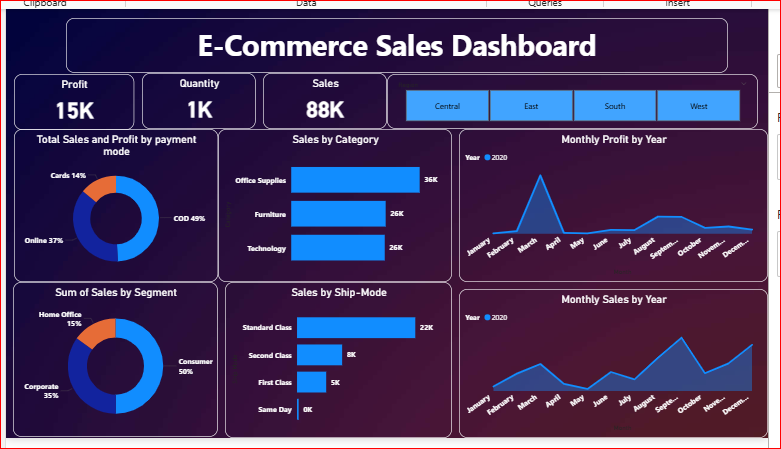

What the dashboard file says about the page in this screenshot:
{"tool":"powerbi","page":{"name":"Page 1","canvas":[1280,720],"ordinal":0},"visuals":[{"type":"clusteredBarChart","title":" Sales by Category","fields":{"Category":["Sheet1.Category"],"Y":["Sum(Sheet1.Sales)"]},"box":[356.1,201.6,393.1,257],"z":0},{"type":"clusteredBarChart","title":" Sales by Ship-Mode","fields":{"Y":["Sum(Sheet1.Sales)"],"Category":["Sheet1.Ship Mode"]},"box":[367.9,458.6,381.3,262],"z":1},{"type":"stackedAreaChart","title":"Monthly Sales by Year","fields":{"Y":["Sum(Sheet1.Sales)"],"Category":["Sheet1.Order Date.Variation.Date Hierarchy.Month"],"Series":["Sheet1.Order Date.Variation.Date Hierarchy.Year"]},"box":[760.9,470.3,519.1,250.3],"z":3},{"type":"stackedAreaChart","title":"Monthly Profit  by Year","fields":{"Category":["Sheet1.Order Date.Variation.Date Hierarchy.Month"],"Series":["Sheet1.Order Date.Variation.Date Hierarchy.Year"],"Y":["Sum(Sheet1.Profit)"]},"box":[760.9,201.6,519.1,257],"z":4},{"type":"donutChart","fields":{"Category":["Sheet1.Segment"],"Y":["Sum(Sheet1.Sales)"]},"box":[11.8,458.6,344.4,260.4],"z":5},{"type":"donutChart","title":"Total Sales and Profit by payment mode","fields":{"Y":["Sum(Sheet1.Sales)"],"Category":["Sheet1.Payment Mode"]},"box":[13.4,201.6,342.7,257],"z":6},{"type":"slicer","fields":{"Values":["Sheet1.Region"]},"box":[640,109.2,623.2,92.4],"z":7},{"type":"card","title":"Sales","fields":{"Values":["Sum(Sheet1.Sales)"]},"box":[431.7,107.5,208.3,94.1],"z":8},{"type":"card","title":"Quantity ","fields":{"Values":["Sum(Sheet1.Quantity)"]},"box":[228.5,107.5,191.5,94.1],"z":9},{"type":"card","title":"Profit","fields":{"Values":["Sum(Sheet1.Profit)"]},"box":[13.4,109.2,201.6,94.1],"z":10},{"type":"textbox","box":[100.8,15.1,1112,92.4],"z":11}]}

Visuals, with their boxes in screenshot pixels (x1, y1, x2, y2):
" Sales by Category" clusteredBarChart: [210,125,447,280]
" Sales by Ship-Mode" clusteredBarChart: [217,280,447,438]
"Monthly Sales by Year" stackedAreaChart: [454,287,766,438]
"Monthly Profit  by Year" stackedAreaChart: [454,125,766,280]
donutChart - Sheet1.Segment x Sum(Sheet1.Sales): [3,280,210,437]
"Total Sales and Profit by payment mode" donutChart: [4,125,210,280]
slicer - Sheet1.Region: [381,70,756,125]
"Sales" card: [256,69,381,125]
"Quantity " card: [133,69,249,125]
"Profit" card: [4,70,125,126]
textbox: [57,13,726,69]
